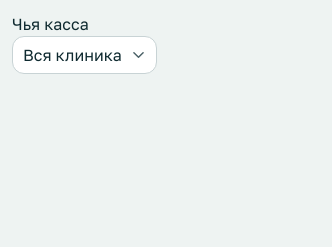
Test: нажать — список, выбрать пункт — значение в поле, список закрылся
What coordinates should you click on to do the following:
click the dropdown named "Чья касса"
I would click on:
 (84, 55)
Its box is [12,36,157,74].
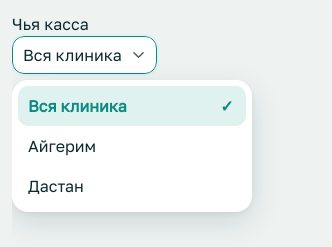
What coordinates should you click on to do the following:
click the option "Дастан"
I would click on:
 (56, 186)
Its box is [28,176,84,196].
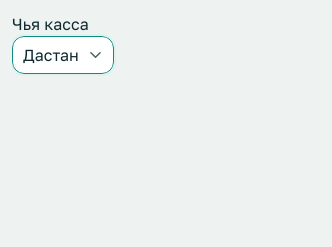
Now the dropdown named "Чья касса" reads "Дастан", box [12,36,114,74]
Now the list is gone
